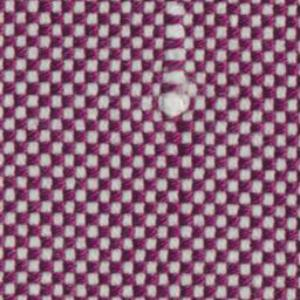defect: (159, 5, 197, 118)
